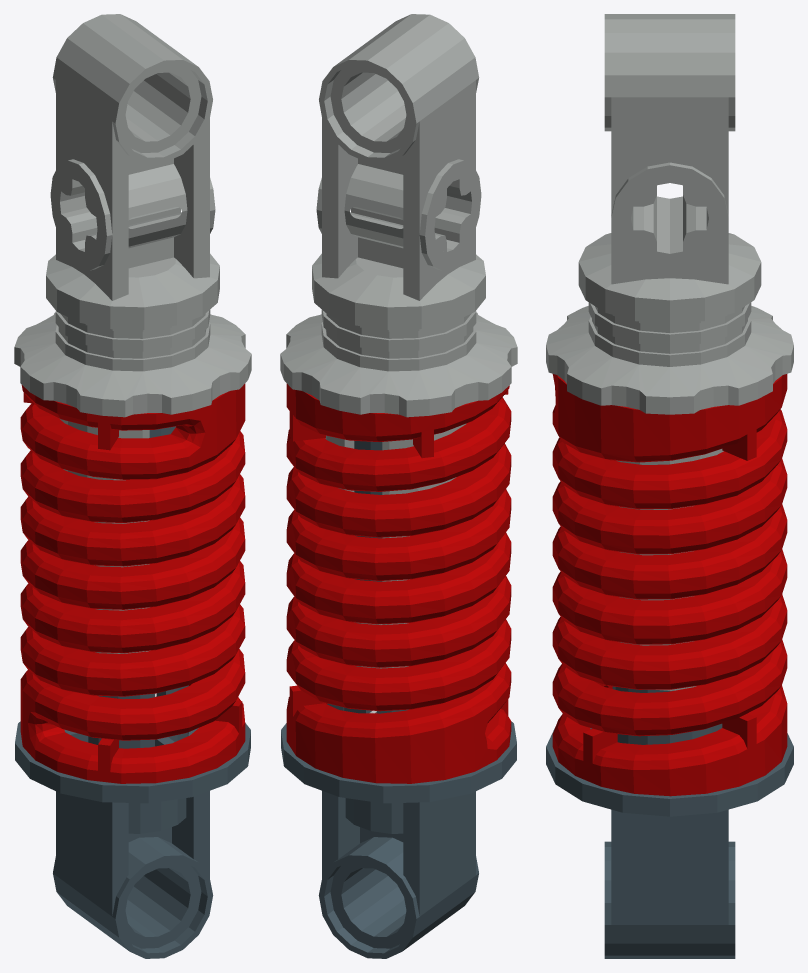
The picture shows the model from 3 angles, left to right: view 1: azimuth 30°, elevation 25°; view 2: azimuth 150°, elevation 25°; view 3: azimuth 270°, elevation 25°; orthographic projection. The views are drawn at different scales.
Visible parts, largest first — view 1: world; view 2: world; view 3: world.
Boxes of the visible parts, left/top/right/bottom form: world: left=14, top=14, right=251, bottom=958; world: left=280, top=14, right=517, bottom=958; world: left=546, top=14, right=793, bottom=958.
Bounding box in the file's own units: 0.0152 × 0.0632 × 0.0152.
